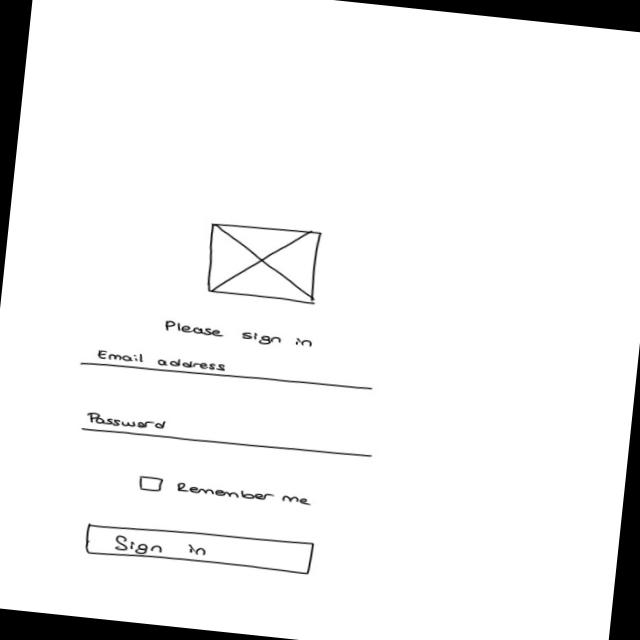button: (82, 517, 315, 577)
checkbox: (136, 474, 314, 509)
image: (204, 219, 324, 305)
input: (81, 409, 374, 461), (79, 346, 374, 396)
label: (162, 318, 314, 351)
